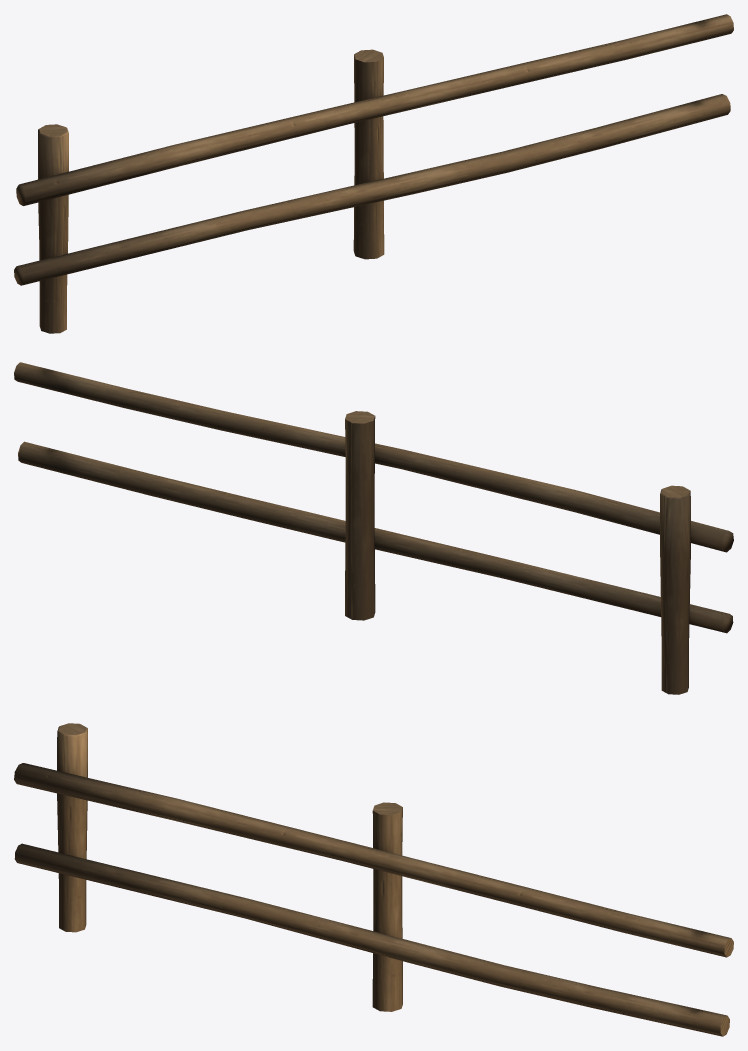
The model's file is fence_2legs.glb.
3 renders of one model, top to bottom at view 1: azimuth 30°, elevation 25°; view 2: azimuth 150°, elevation 25°; view 3: azimuth 330°, elevation 25°, orthographic.
Parts seen in each view (by area): view 1: fence_2legs; view 2: fence_2legs; view 3: fence_2legs.
Part boxes in pixels (<box>): fence_2legs: <box>14,14,733,333</box>; fence_2legs: <box>14,362,733,694</box>; fence_2legs: <box>14,723,733,1036</box>.
Size of what is drawn, in the model's own units: 4.91 by 1.32 by 0.2909.
1 material, 1 textured.
